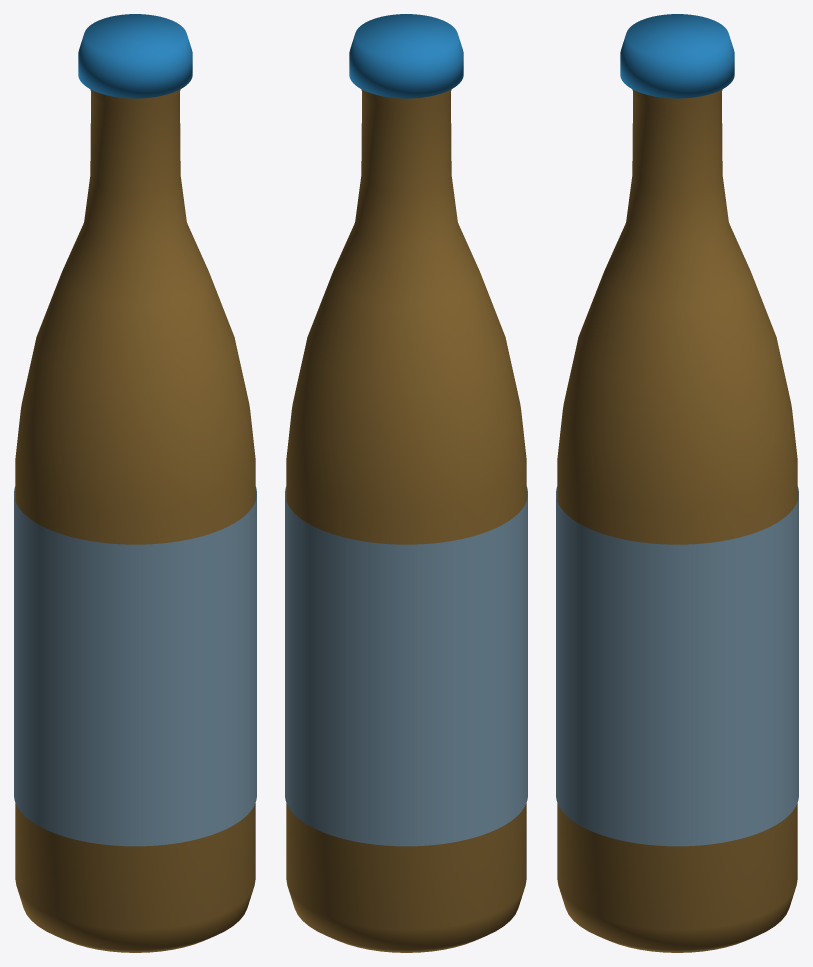
File: beer_userimg_minimal.glb
3 renders of one model, left to right at view 1: azimuth 30°, elevation 25°; view 2: azimuth 150°, elevation 25°; view 3: azimuth 270°, elevation 25°, orthographic.
Parts seen in each view (by area): view 1: Glass, Label_band, Cap; view 2: Glass, Label_band, Cap; view 3: Glass, Label_band, Cap.
Part boxes in pixels (box(x1,y1,x2,y2)): Glass: box(15, 89, 255, 952); Label_band: box(14, 486, 256, 846); Cap: box(78, 14, 192, 98); Glass: box(286, 89, 526, 952); Label_band: box(285, 486, 527, 846); Cap: box(349, 14, 463, 98); Glass: box(557, 89, 797, 952); Label_band: box(556, 486, 798, 846); Cap: box(620, 14, 734, 98).
Size of the model in its own units: 0.0657 by 0.2615 by 0.0657.
